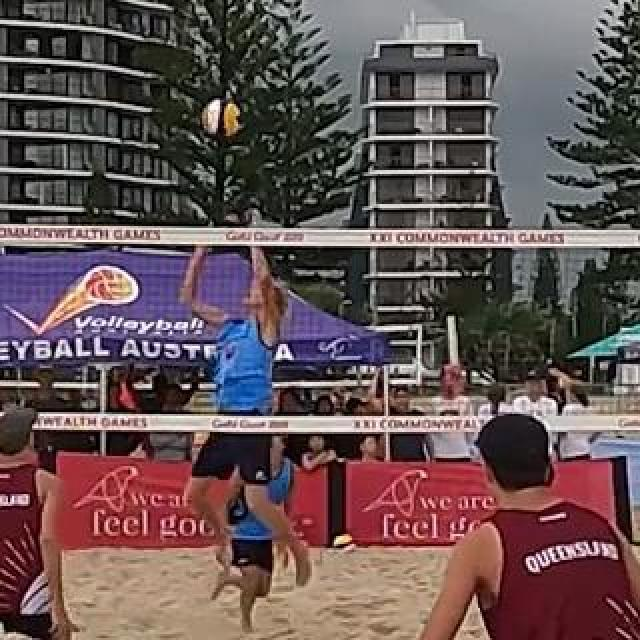volleyball: (203, 100, 243, 142), (333, 533, 355, 555)
